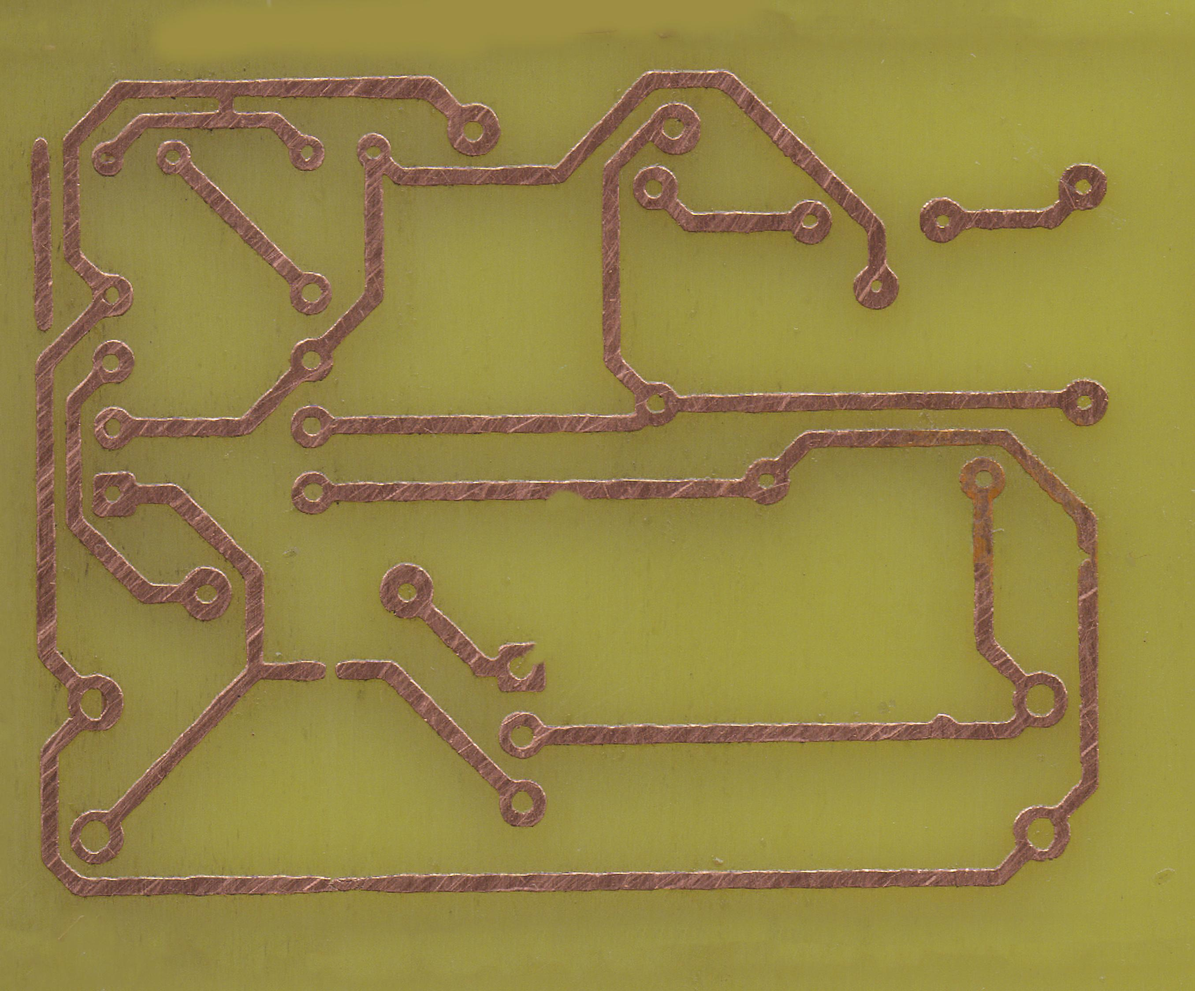missing_hole: (496, 639, 544, 696)
mouse_bite: (537, 481, 592, 505), (1076, 543, 1093, 571)
open_circuit: (307, 658, 351, 684)
short: (210, 79, 245, 130)
spur: (924, 713, 963, 738)
spurious_copper: (29, 135, 55, 333)
